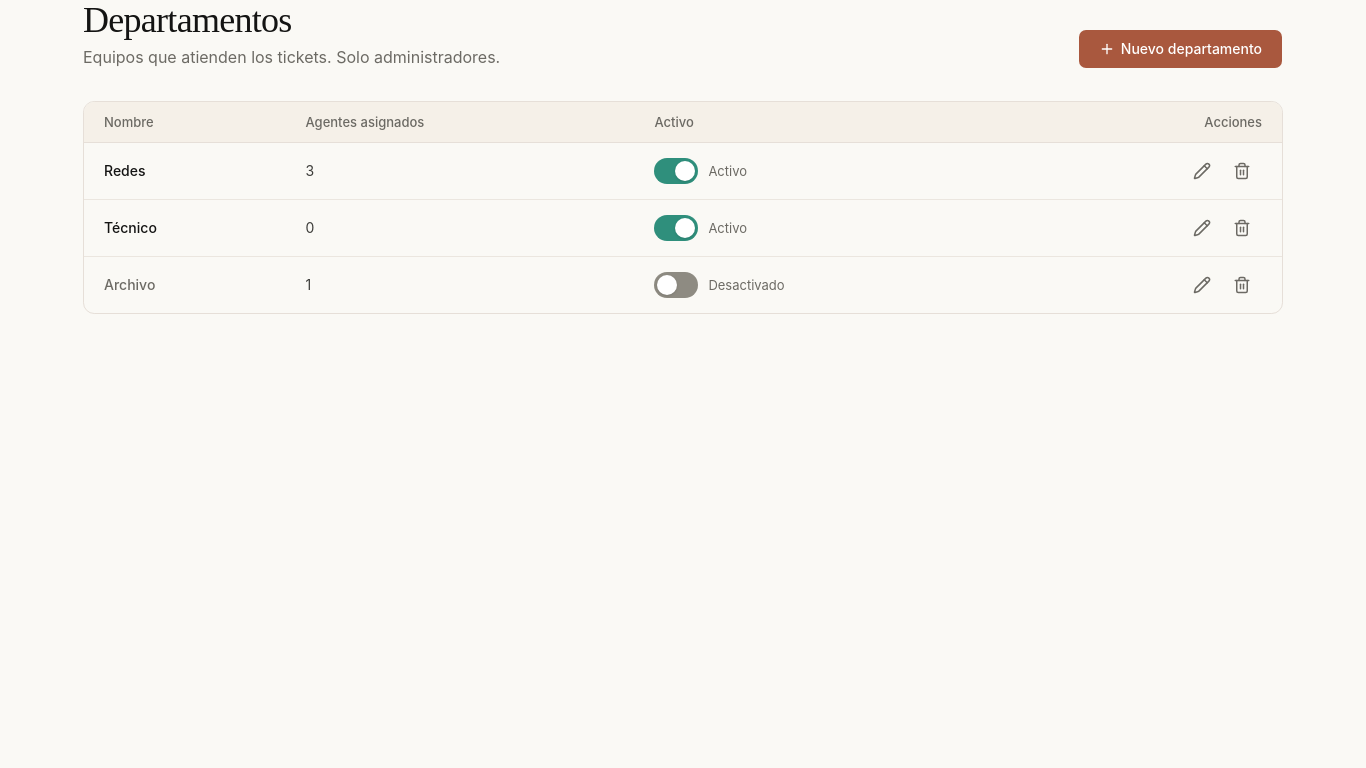
OrganizationsAdmin › alta › crea con el nombre y cierra el panel
Click the button "Nuevo departamento": {"x": 1180, "y": 49} [1078,29,1283,69]
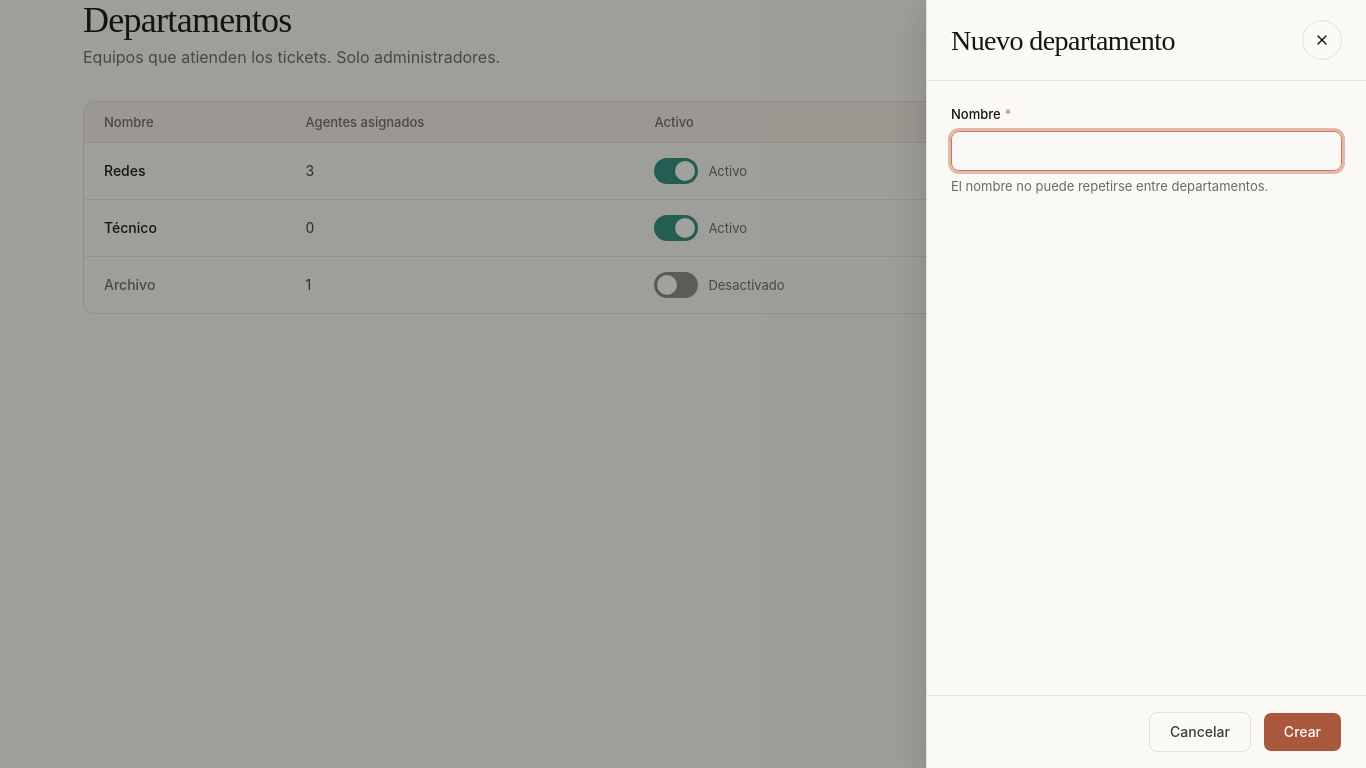
In the field labelled "Nombre": {"x": 1146, "y": 150} [951,130,1342,170], type "  Soporte  "
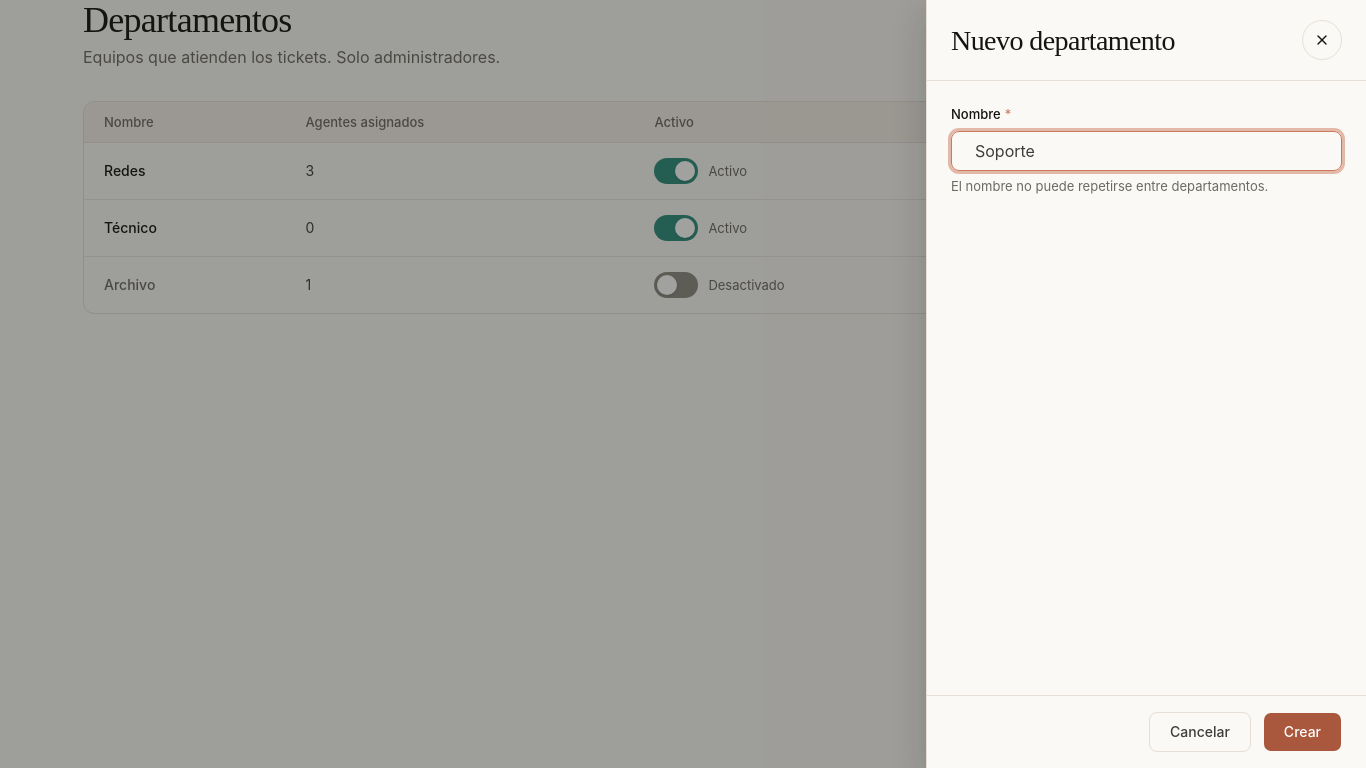
Click the button "Crear": {"x": 1302, "y": 732} [1263,712,1342,752]
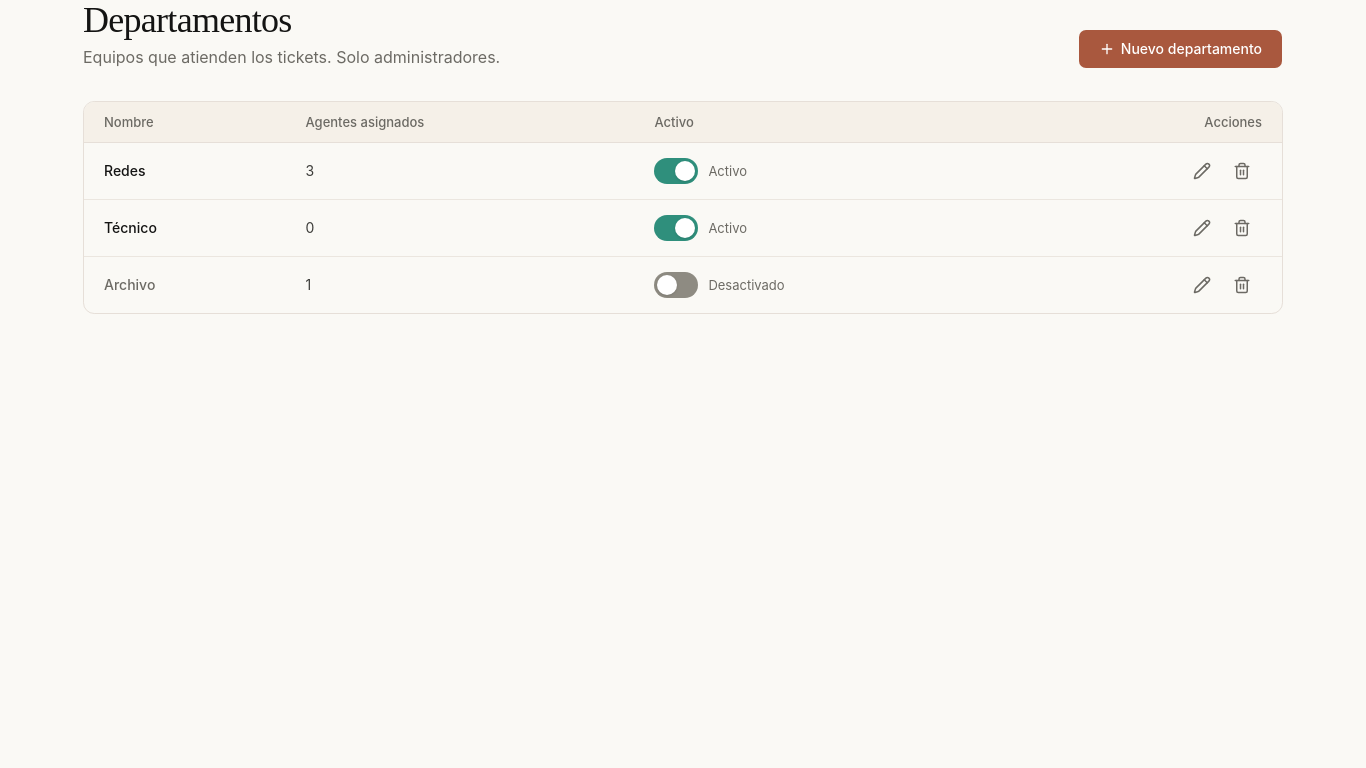
Result: the dialog is gone
